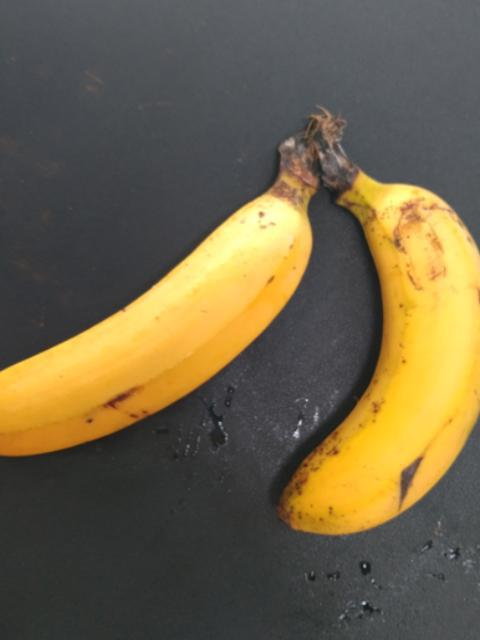freshripe: (0, 213, 316, 503)
ripe: (274, 162, 479, 572)
